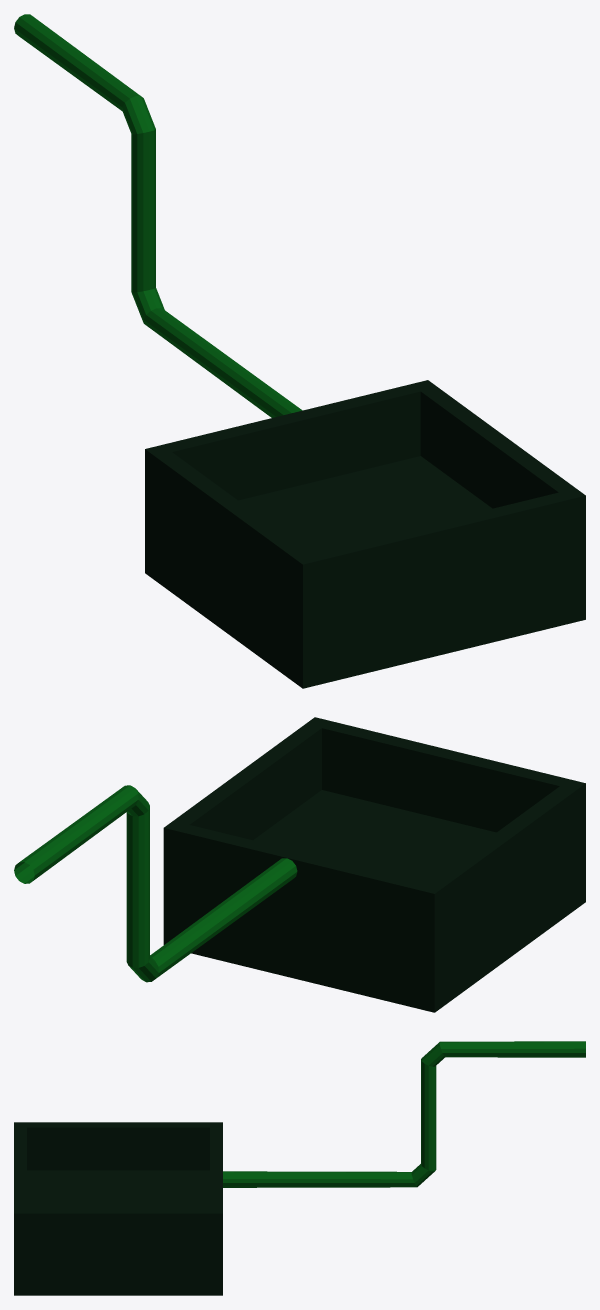
File: slurryTank.fbx
3 renders of one model, top to bottom at view 1: azimuth 30°, elevation 25°; view 2: azimuth 150°, elevation 25°; view 3: azimuth 270°, elevation 25°, orthographic. The views are drawn at different scales.
Visible parts, largest first — view 1: Cube, Cube.001; view 2: Cube, Cube.001; view 3: Cube, Cube.001.
Boxes of the visible parts, x1,y1,x2,y2 form: Cube: [145, 380, 585, 688]; Cube.001: [14, 14, 302, 417]; Cube: [163, 717, 585, 1012]; Cube.001: [14, 785, 297, 982]; Cube: [14, 1122, 222, 1295]; Cube.001: [223, 1041, 585, 1187].
Bounding box in the file's own units: 755 × 817 × 1996.
